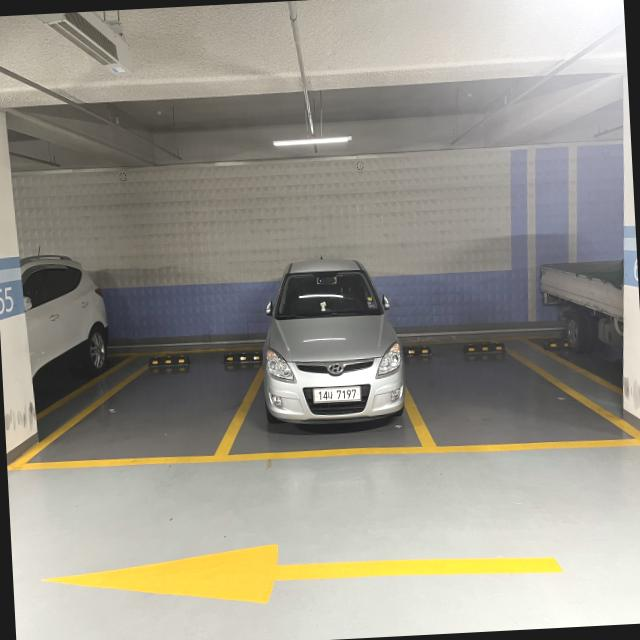car: (252, 243, 418, 461)
free: (7, 345, 270, 470), (401, 336, 640, 449)
